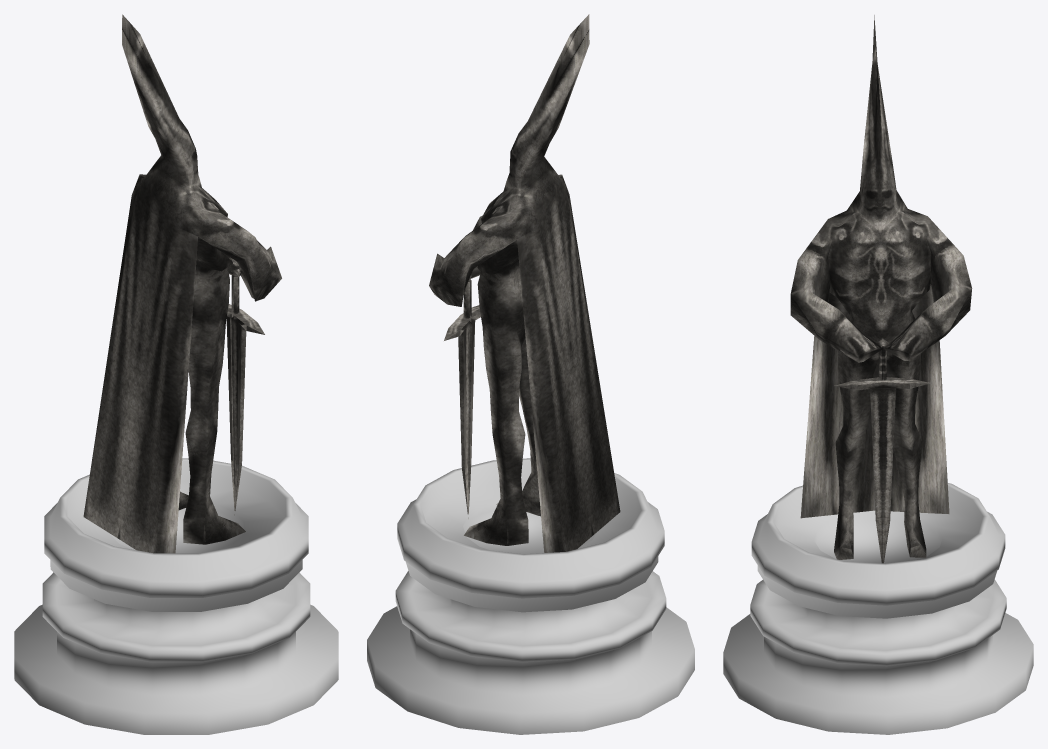
Rendered from StatueB2.fbx.
3 renders of one model, left to right at view 1: azimuth 30°, elevation 25°; view 2: azimuth 150°, elevation 25°; view 3: azimuth 270°, elevation 25°, orthographic. The views are drawn at different scales.
Visible parts, largest first — view 1: pst.005; view 2: pst.005; view 3: pst.005.
Boxes of the visible parts, x1=… form: pst.005: x1=14, y1=14, x2=338, y2=734; pst.005: x1=367, y1=14, x2=694, y2=734; pst.005: x1=723, y1=15, x2=1033, y2=734.
Bounding box in the file's own units: 335 × 748 × 335.
